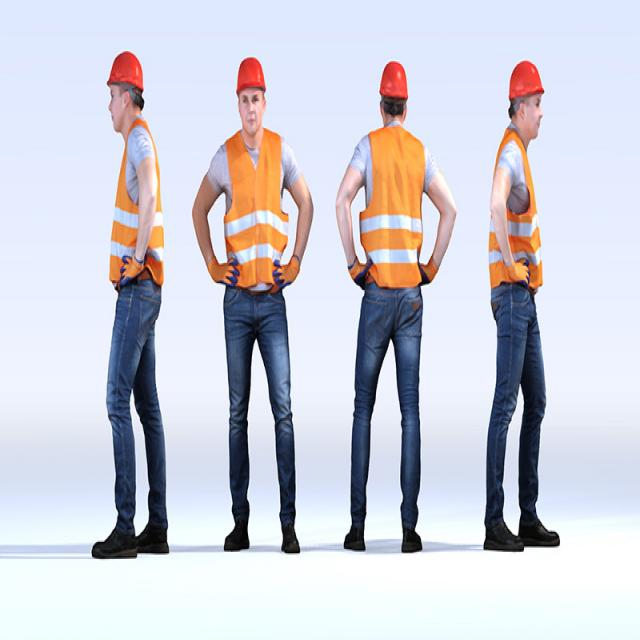Reflective-Jacket: (358, 127, 429, 290), (222, 130, 288, 290), (486, 128, 544, 290), (108, 123, 166, 284)
Safety-Helmet: (506, 57, 545, 104), (106, 50, 146, 95), (234, 54, 268, 95), (378, 58, 410, 101)
